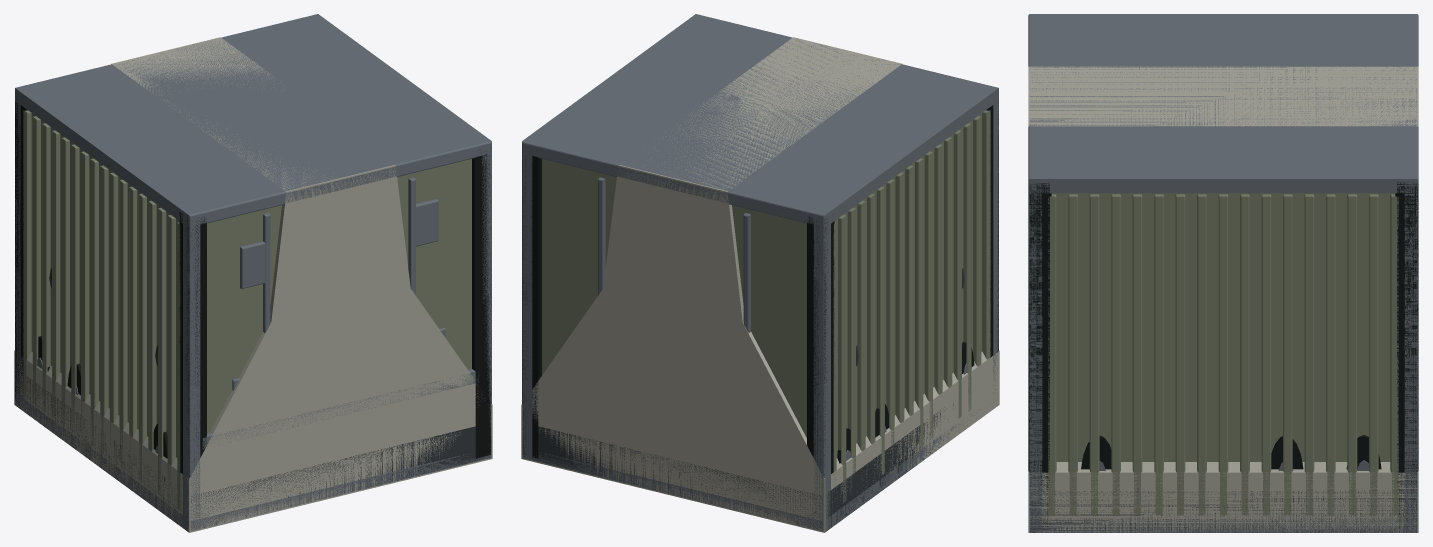
File: modular-kit.glb
The picture shows the model from 3 angles, left to right: view 1: azimuth 30°, elevation 25°; view 2: azimuth 150°, elevation 25°; view 3: azimuth 270°, elevation 25°; orthographic projection. The views are drawn at different scales.
Visible parts, largest first — view 1: edge (×3), concrete, paint, rubber (×2), alloy; view 2: concrete, edge (×2), paint, rubber (×2), alloy; view 3: paint, edge, concrete, rubber (×2), alloy.
Boxes of the visible parts, x1,y1,x2,y2 form: edge (×3): (15, 14, 491, 531); concrete: (14, 37, 492, 532); paint: (23, 110, 471, 509); rubber (×2): (15, 92, 491, 522); alloy: (15, 268, 491, 527); concrete: (521, 37, 999, 532); edge (×2): (522, 14, 998, 531); paint: (542, 110, 990, 502); rubber (×2): (522, 105, 998, 475); alloy: (522, 268, 964, 529); paint: (1048, 193, 1398, 515); edge: (1028, 14, 1418, 532); concrete: (1028, 66, 1418, 532); rubber (×2): (1028, 182, 1418, 528); alloy: (1029, 491, 1417, 532).
Size of the model in its own units: 1 by 1 by 1.
